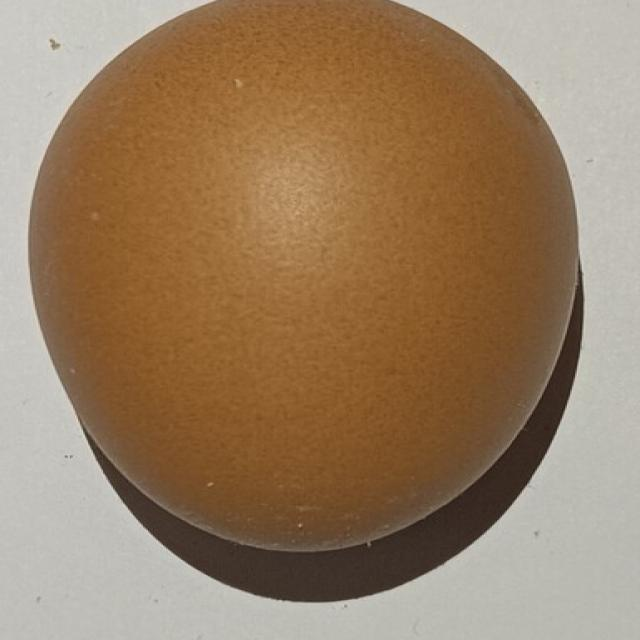fresh: (11, 0, 582, 558)
